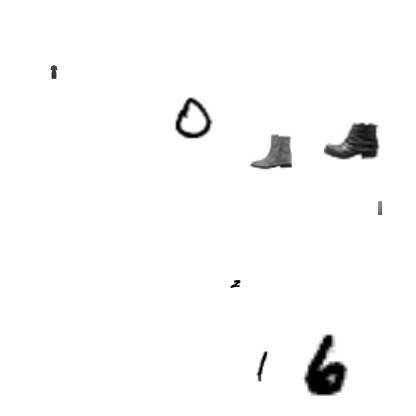0: (164, 92, 220, 148)
1: (240, 344, 282, 386)
2: (229, 277, 243, 291)
6: (281, 329, 365, 413)
Ankle_boot: (324, 113, 380, 169), (250, 130, 292, 172)
Dress: (47, 65, 61, 79), (373, 201, 387, 215)
